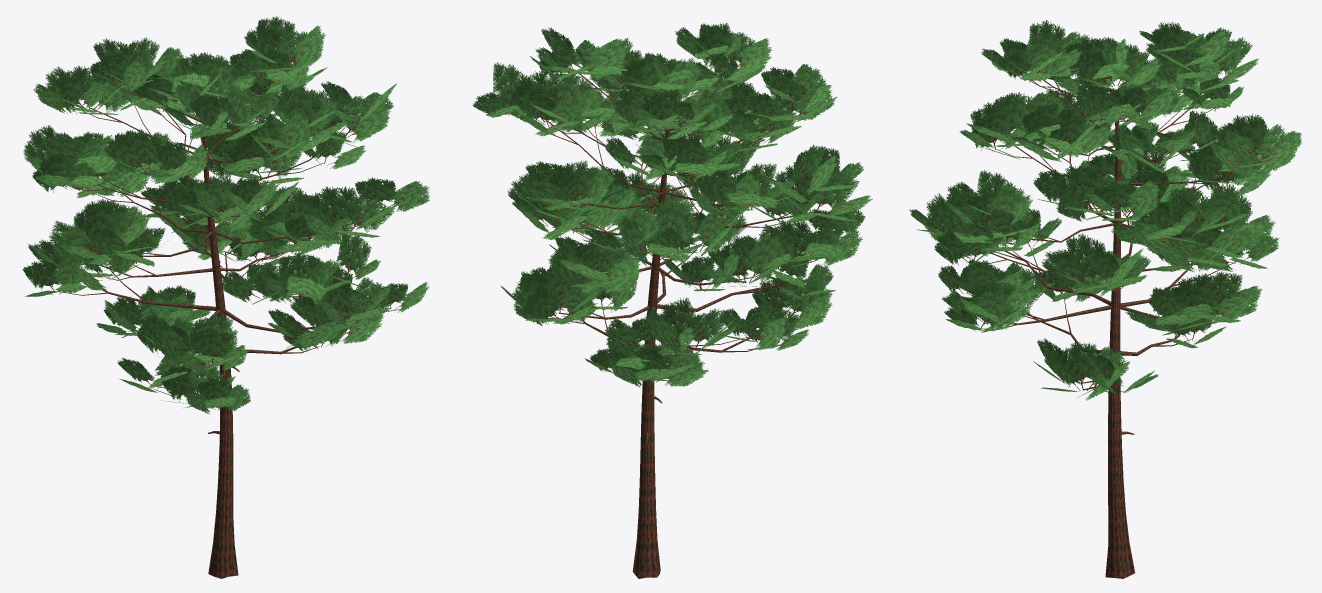
Rendered from pine_dalat_medium.glb.
3 renders of one model, left to right at view 1: azimuth 30°, elevation 25°; view 2: azimuth 150°, elevation 25°; view 3: azimuth 270°, elevation 25°, orthographic.
Visible parts, largest first — view 1: pine_dalat_medium; view 2: pine_dalat_medium; view 3: pine_dalat_medium.
Part boxes in pixels (x1,y1,x2,y2): pine_dalat_medium: (22, 16, 429, 578); pine_dalat_medium: (473, 22, 872, 578); pine_dalat_medium: (909, 20, 1301, 578).
Bounding box in the file's own units: 13.42 × 18.37 × 12.75.
2 materials, 2 textured.
